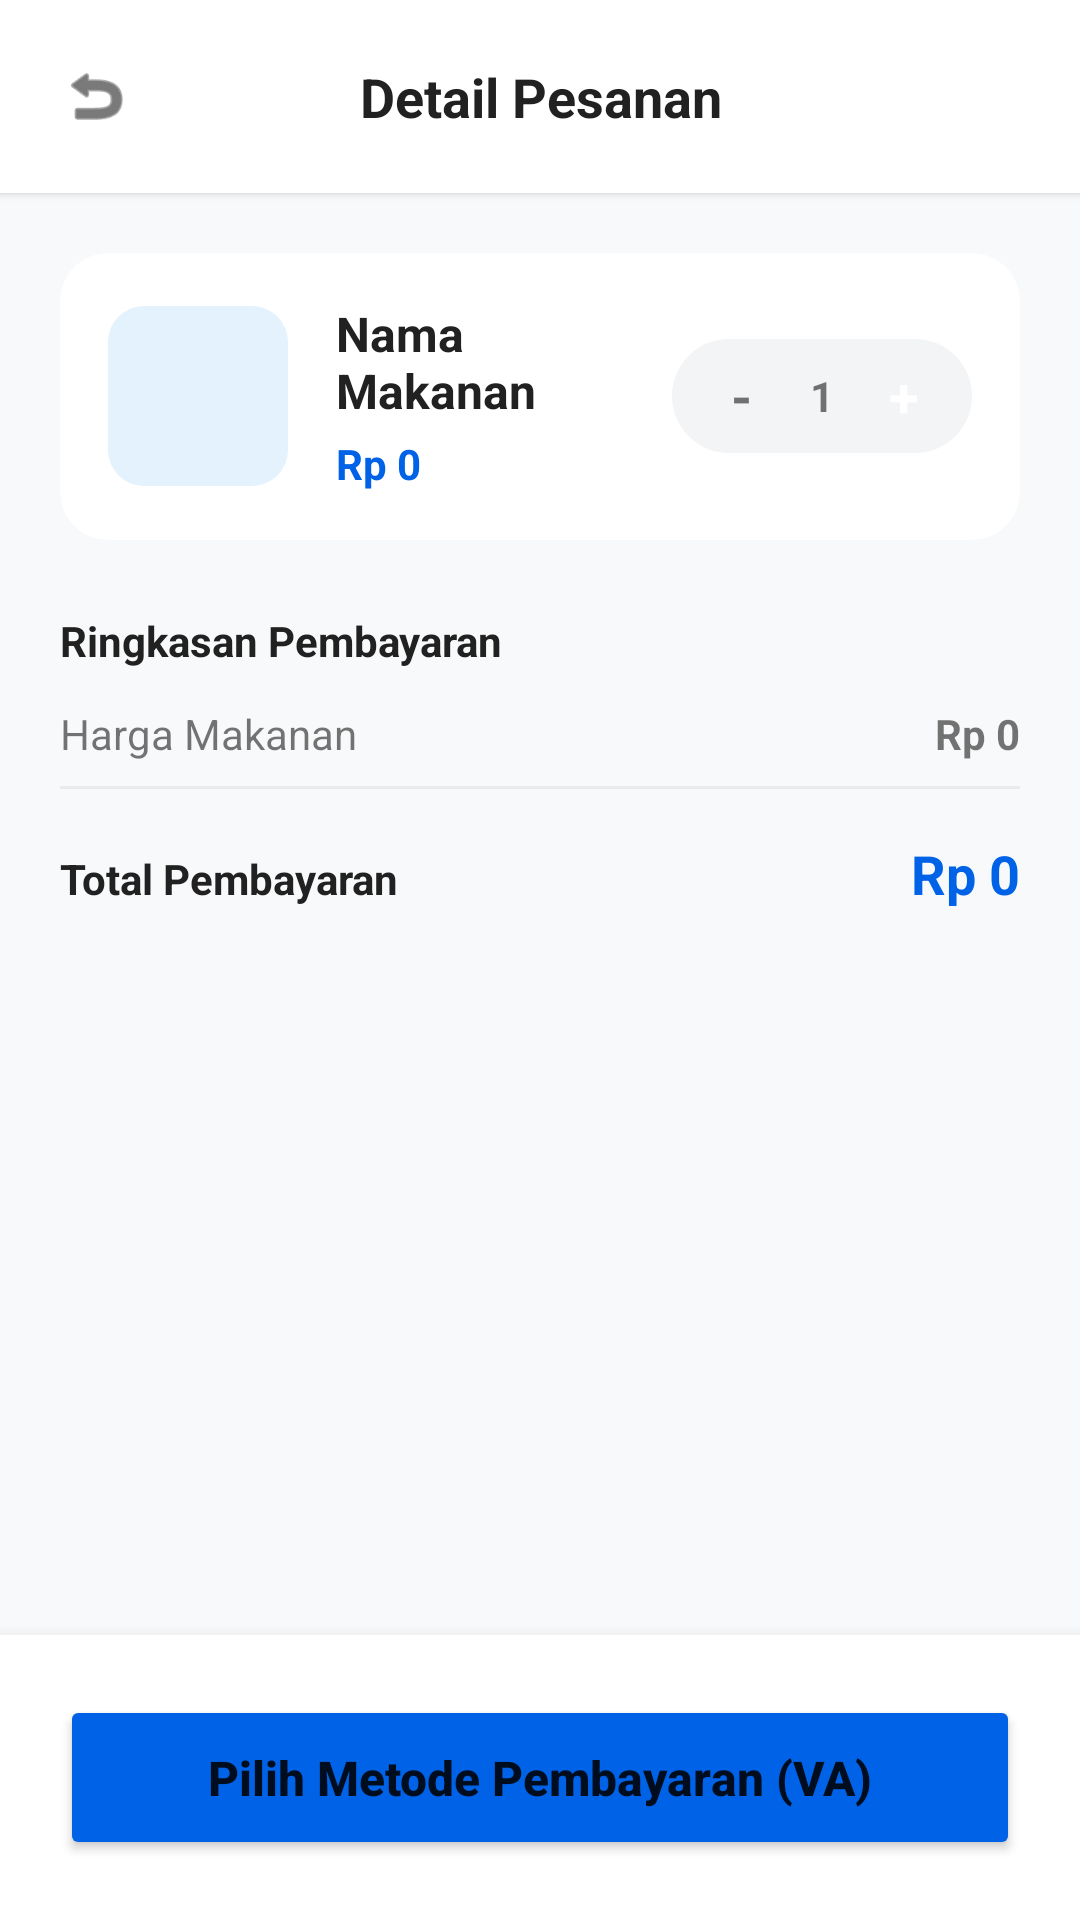

Icons on this 1080 x 1920 Android screen, each with its box as (x1, y1, x2, y2):
revert: (71, 73, 123, 120)
